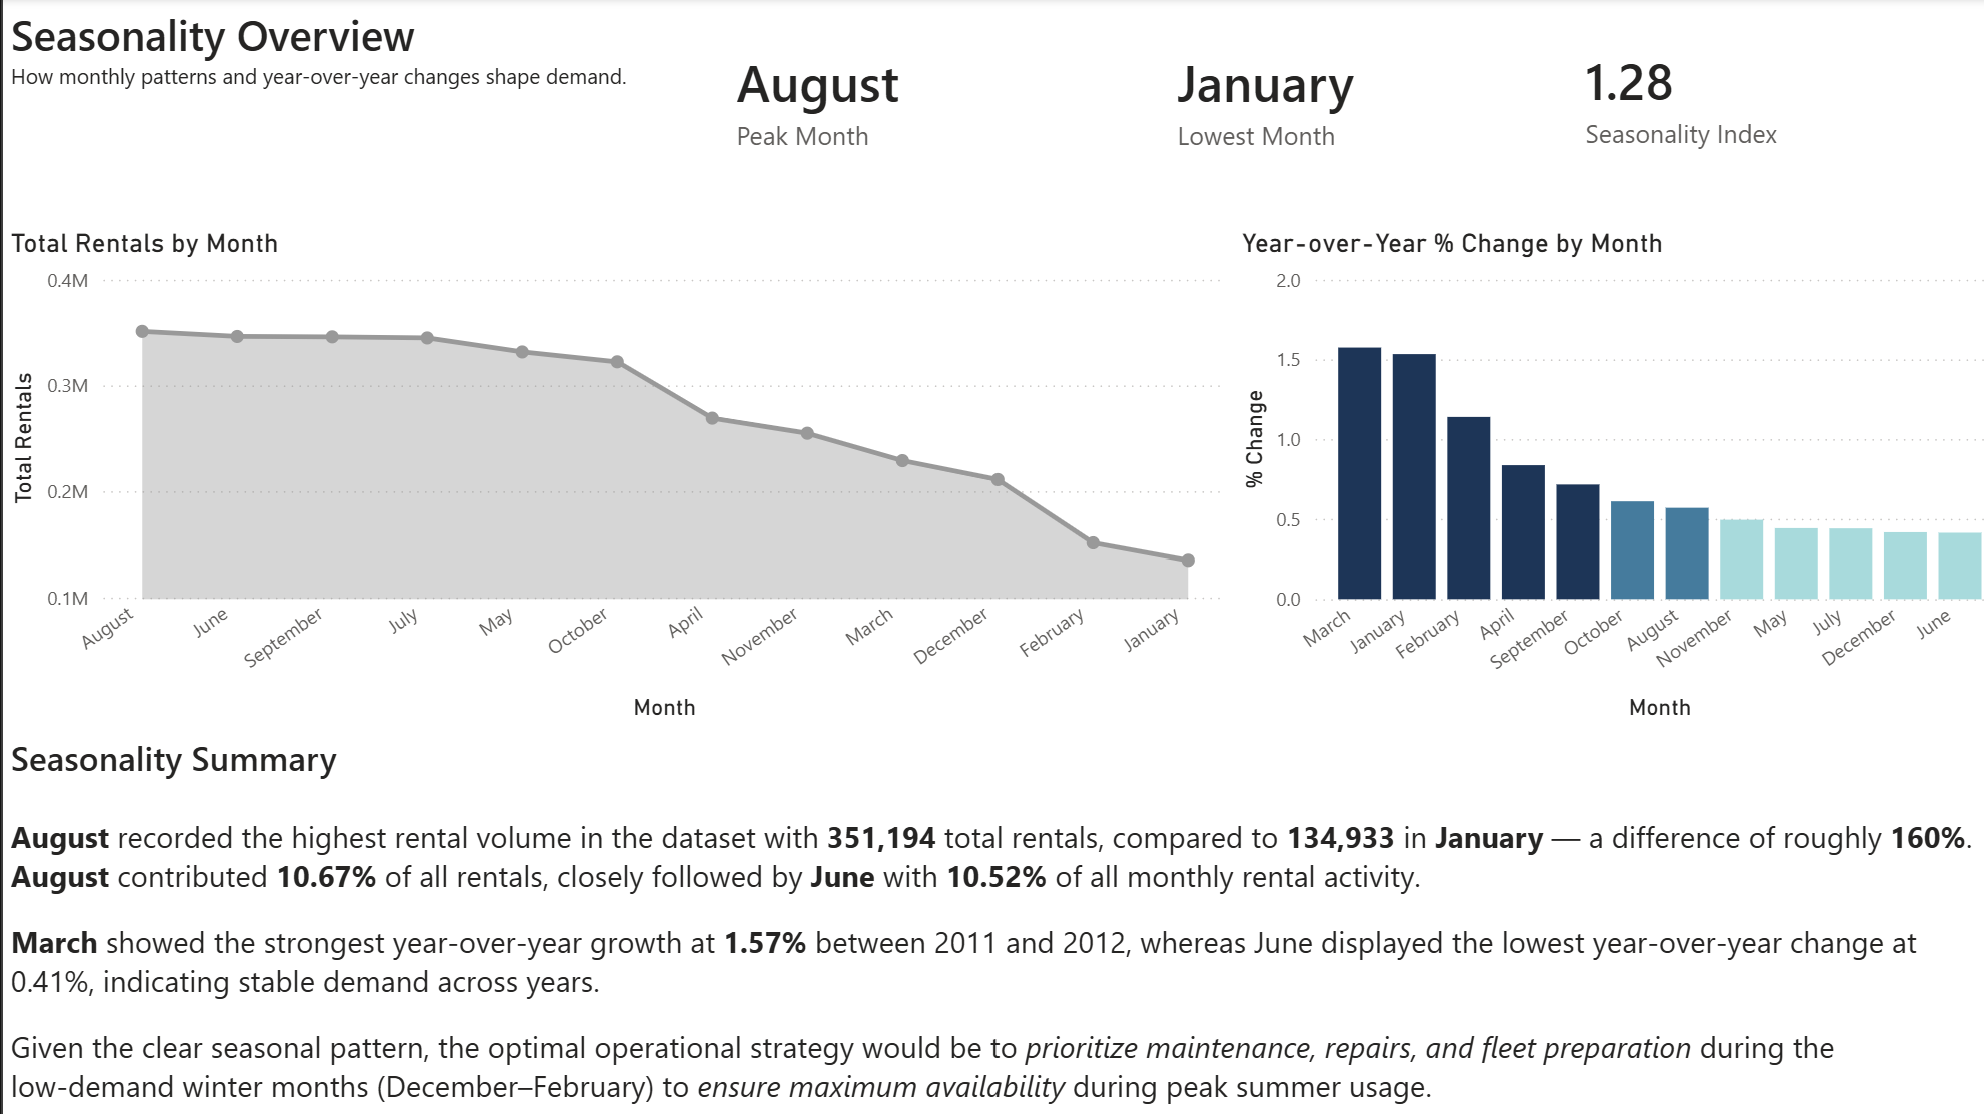

Layout of this report page (visuals, bound fields, positions):
{"tool":"powerbi","page":{"name":"Seasonality","canvas":[1280,720],"ordinal":1},"visuals":[{"type":"cardVisual","fields":{"Data":["public view_fact_bike_rentals.Peak Month"]},"box":[438.7,0,280.4,129.1],"z":0},{"type":"cardVisual","fields":{"Data":["public view_fact_bike_rentals.Lowest Month"]},"box":[719.1,0,280.4,129.1],"z":1000},{"type":"textbox","box":[0,0,438.7,129.1],"z":2000},{"type":"lineChart","fields":{"Category":["public dim_date.month_name"],"Y":["public view_fact_bike_rentals.Average Rentals"]},"box":[0,146.2,784.2,317.6],"z":3000},{"type":"clusteredColumnChart","title":"YoY % Change by Month","fields":{"Y":["public view_fact_bike_rentals.YoY % Change"],"Category":["public dim_date.month_name"]},"box":[784.2,146.2,495.8,317.6],"z":4000},{"type":"textbox","box":[0,463.9,229.7,52.1],"z":6000},{"type":"cardVisual","fields":{"Data":["public view_fact_bike_rentals.Seasonality Index"]},"box":[979.7,0,300.3,127],"z":7000},{"type":"textbox","box":[0,516.8,1280,203.2],"z":8001}]}

Visuals, with their boxes in screenshot pixels (x1, y1, x2, y2), scaled from the page's 1280x720 canvas onto the 1984x1114 screenshot:
cardVisual - public view_fact_bike_rentals.Peak Month: locate(680, 0, 1115, 200)
cardVisual - public view_fact_bike_rentals.Lowest Month: locate(1115, 0, 1549, 200)
textbox: locate(0, 0, 680, 200)
lineChart - public dim_date.month_name x public view_fact_bike_rentals.Average Rentals: locate(0, 226, 1216, 718)
"YoY % Change by Month" clusteredColumnChart: locate(1216, 226, 1983, 718)
textbox: locate(0, 718, 356, 798)
cardVisual - public view_fact_bike_rentals.Seasonality Index: locate(1519, 0, 1983, 196)
textbox: locate(0, 800, 1983, 1113)
